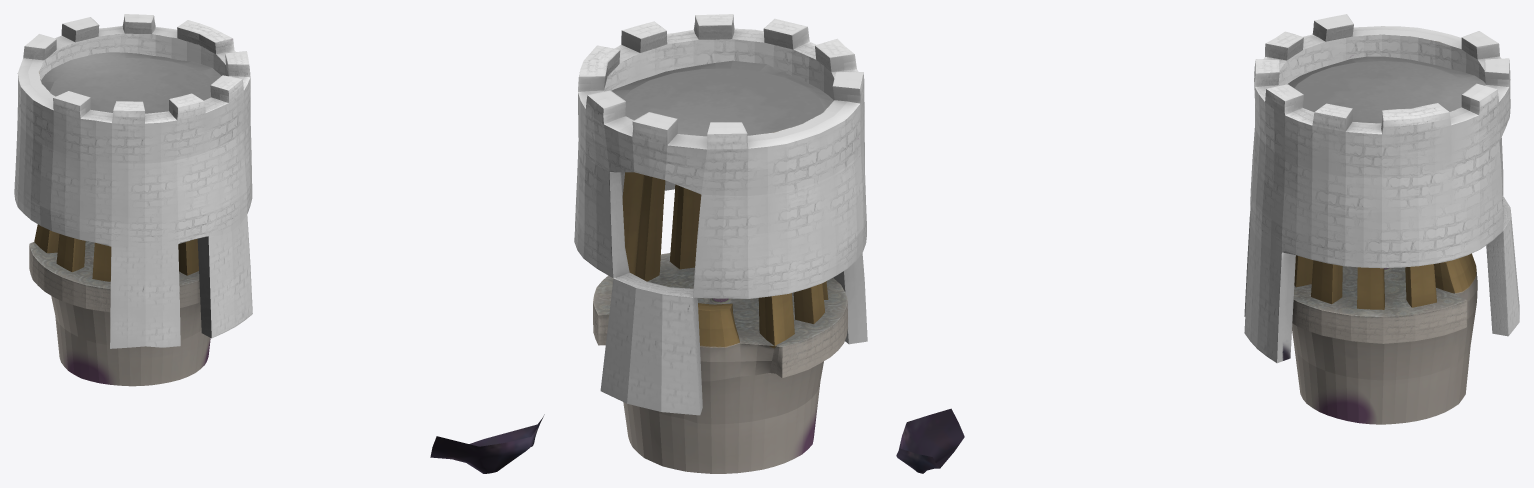
Rendered from tile6s15+8s1.fbx.
3 renders of one model, left to right at view 1: azimuth 30°, elevation 25°; view 2: azimuth 150°, elevation 25°; view 3: azimuth 270°, elevation 25°, orthographic. The views are drawn at different scales.
Parts seen in each view (by area): view 1: tile8_s1, tile6_s15; view 2: tile8_s1; view 3: tile8_s1, tile6_s15.
Part boxes in pixels (x1,y1,x2,y2): tile8_s1: (14,14,252,386); tile6_s15: (430,414,544,473); tile8_s1: (574,14,867,473); tile8_s1: (1244,14,1519,424); tile6_s15: (896,408,964,473).
Size of the model in its own units: 205 by 186 by 322.
